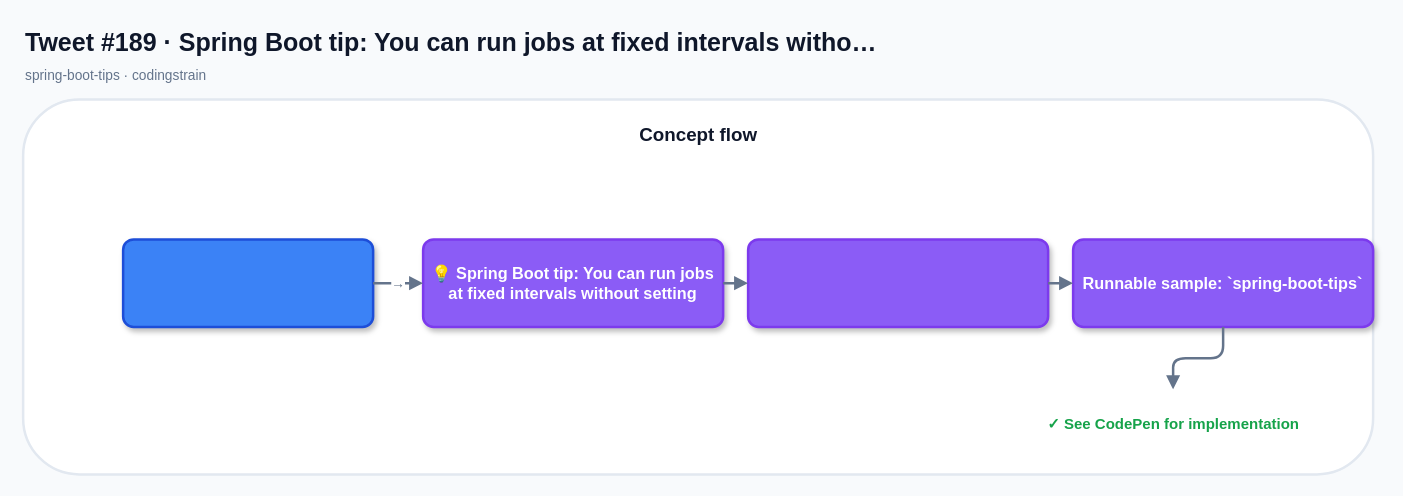
Image size: 1403x496. Some labels were removed from this diagram. The centre of each missing label's shape, as x and y in pixels:
"#Java #SpringBoot" goes at [898,284].
"Problem / context" goes at [248,284].
